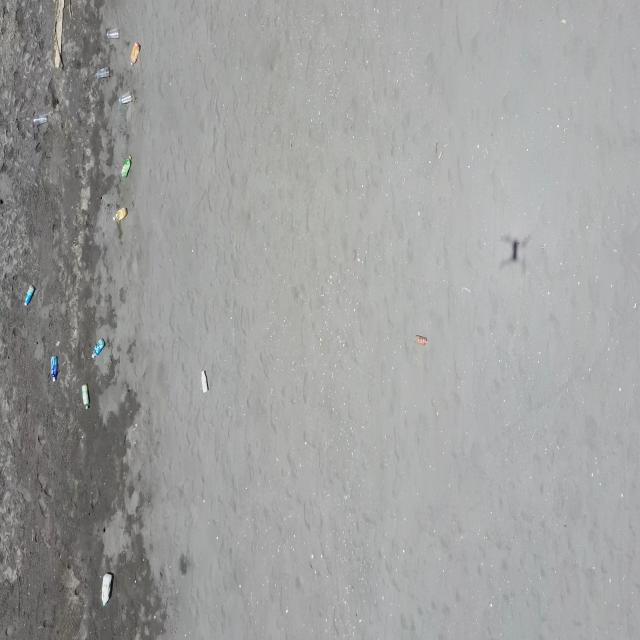plastic-bottle: (100, 571, 113, 606), (120, 154, 133, 178), (91, 337, 105, 359), (80, 383, 90, 412), (24, 284, 36, 308), (49, 354, 58, 383), (114, 206, 129, 223), (130, 41, 139, 66), (201, 369, 209, 395)
takeaway-cup: (32, 113, 49, 129), (118, 91, 132, 106), (105, 28, 122, 40), (96, 66, 110, 80)
